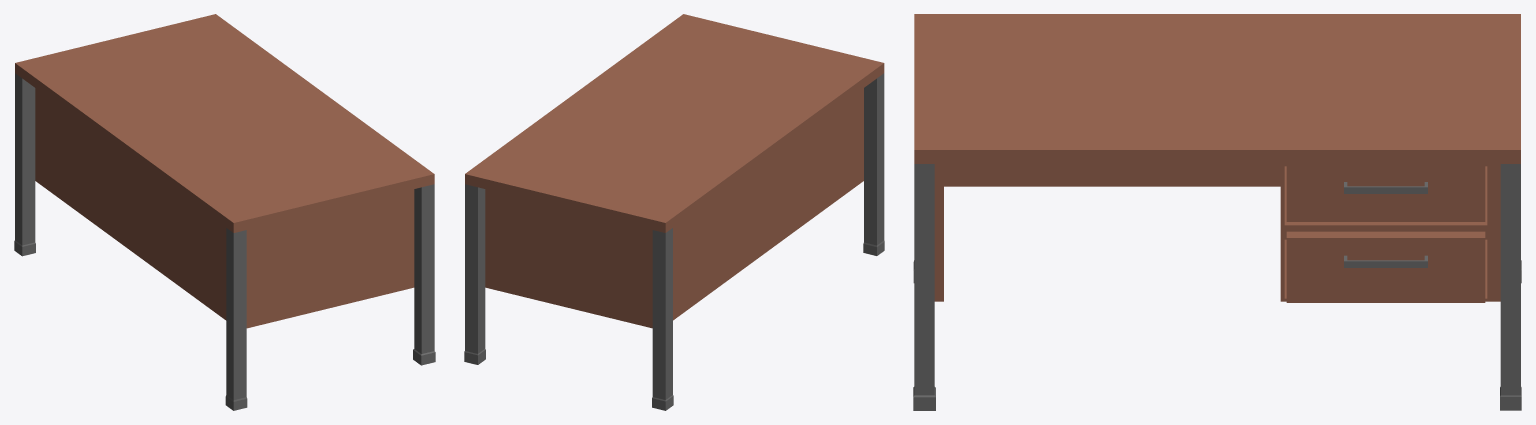
File: desk.fbx
3 renders of one model, left to right at view 1: azimuth 30°, elevation 25°; view 2: azimuth 150°, elevation 25°; view 3: azimuth 270°, elevation 25°, orthographic. The views are drawn at different scales.
Visible parts, largest first — view 1: Plane; view 2: Plane; view 3: Plane.
Boxes of the visible parts, x1,y1,x2,y2 form: Plane: [14, 14, 435, 410]; Plane: [464, 14, 884, 410]; Plane: [913, 14, 1521, 410].
Size of the model in its own units: 204 by 179 by 378.
